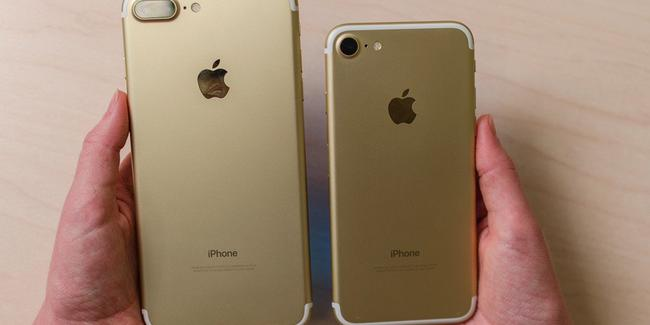apple: (376, 77, 426, 157), (198, 49, 234, 119)
